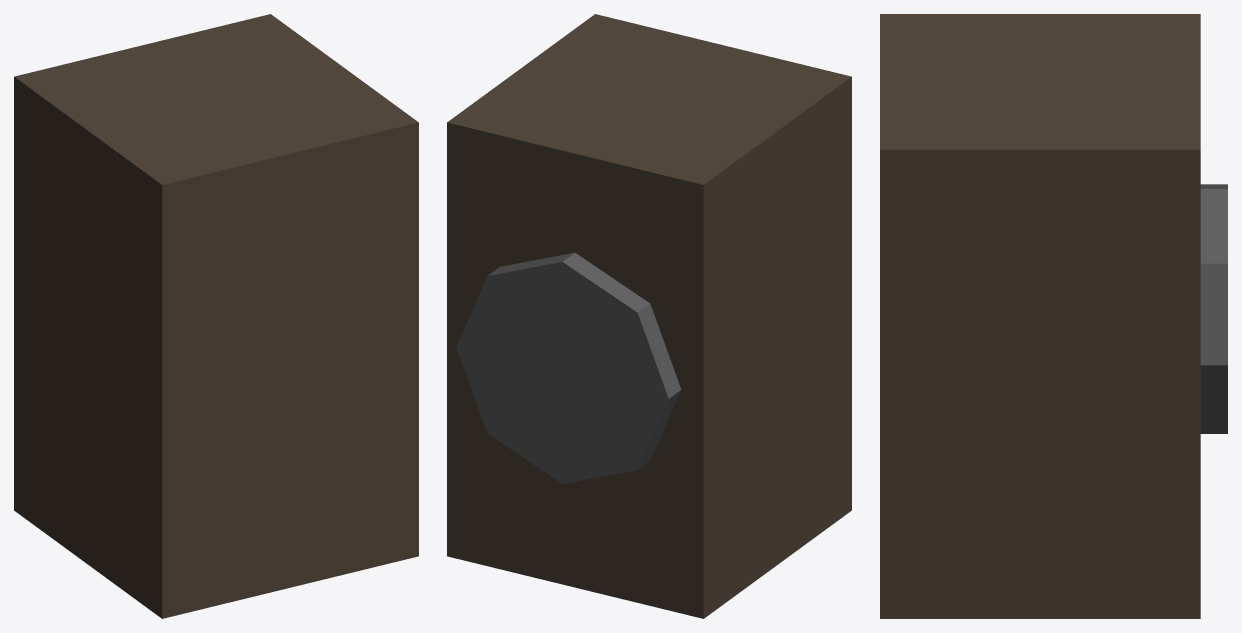
File: Boombox.fbx
The picture shows the model from 3 angles, left to right: view 1: azimuth 30°, elevation 25°; view 2: azimuth 150°, elevation 25°; view 3: azimuth 270°, elevation 25°; orthographic projection. The views are drawn at different scales.
Visible parts, largest first — view 1: Boombox.002; view 2: Boombox.002; view 3: Boombox.002.
Part boxes in pixels (x1,y1,x2,y2): Boombox.002: (14, 14, 418, 618); Boombox.002: (447, 14, 851, 618); Boombox.002: (880, 14, 1227, 618).
Bounding box in the file's own units: 0.322 × 0.5202 × 0.3494.
